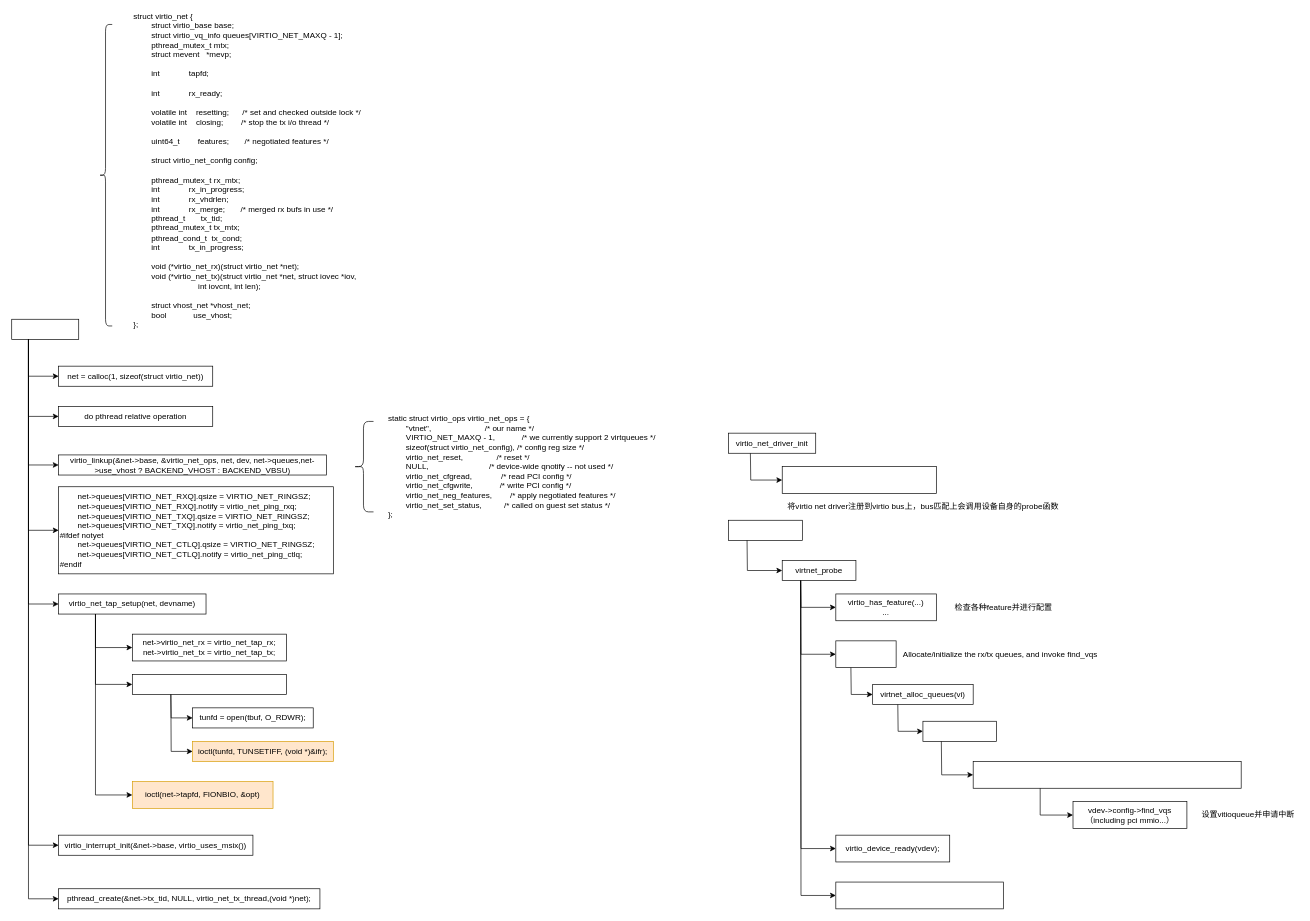
This 1310x921 diagram has some shape labels left out. The centre of each missing label's shape, as x and y in pixels:
init_vqs(vi);: point (865, 654)
net->tapfd = virtio_net_tap_open(tbuf): point (209, 684)
register_virtio_driver(&virtio_net_driver): point (859, 479)
virtio_dev_probe: point (765, 530)
virtio_find_vqs_ctx(vi->vdev, total_vqs, vqs, callbacks,names, ctx, NULL);: point (1107, 774)
virtio_net_init: point (45, 329)
virtnet_find_vqs: point (959, 731)
virtnet_set_queues(vi, vi->curr_queue_pairs): point (919, 895)
